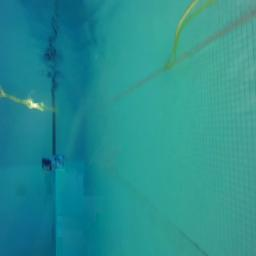front: (42, 154, 68, 174)
